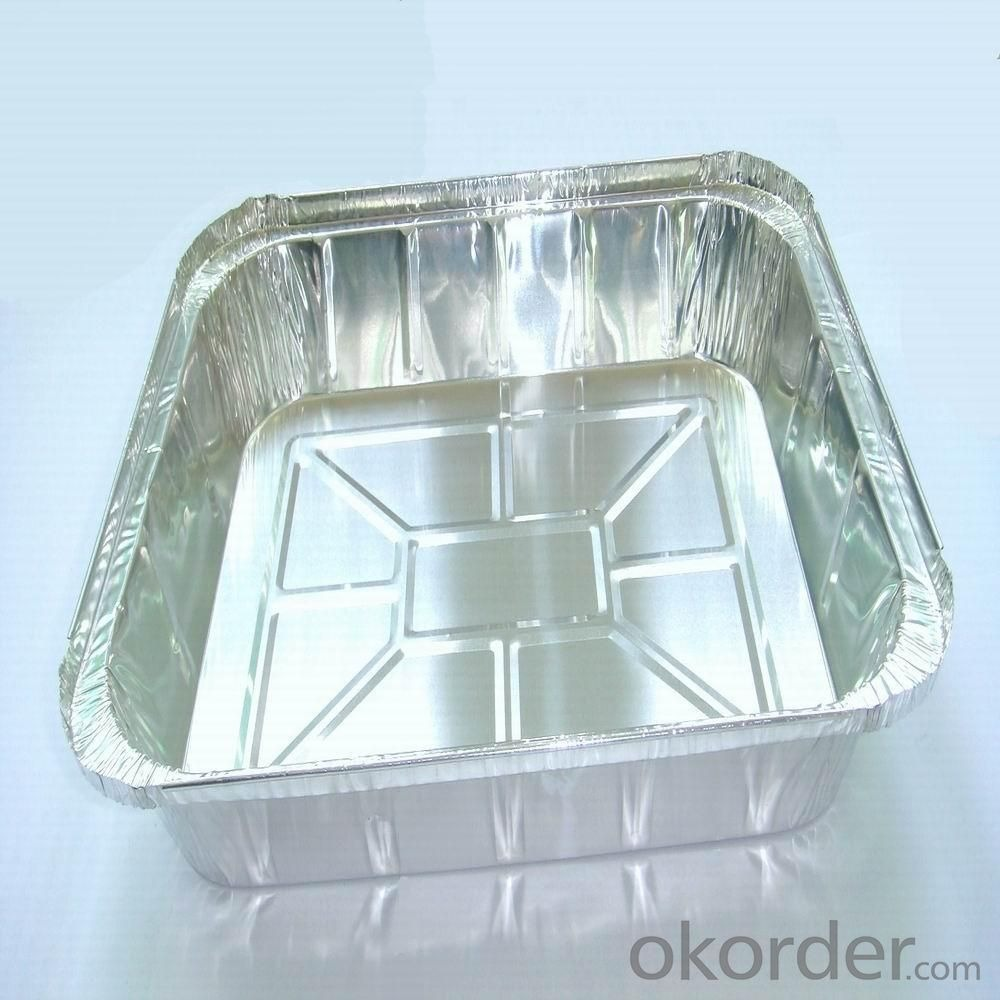metal: (54, 149, 953, 890)
